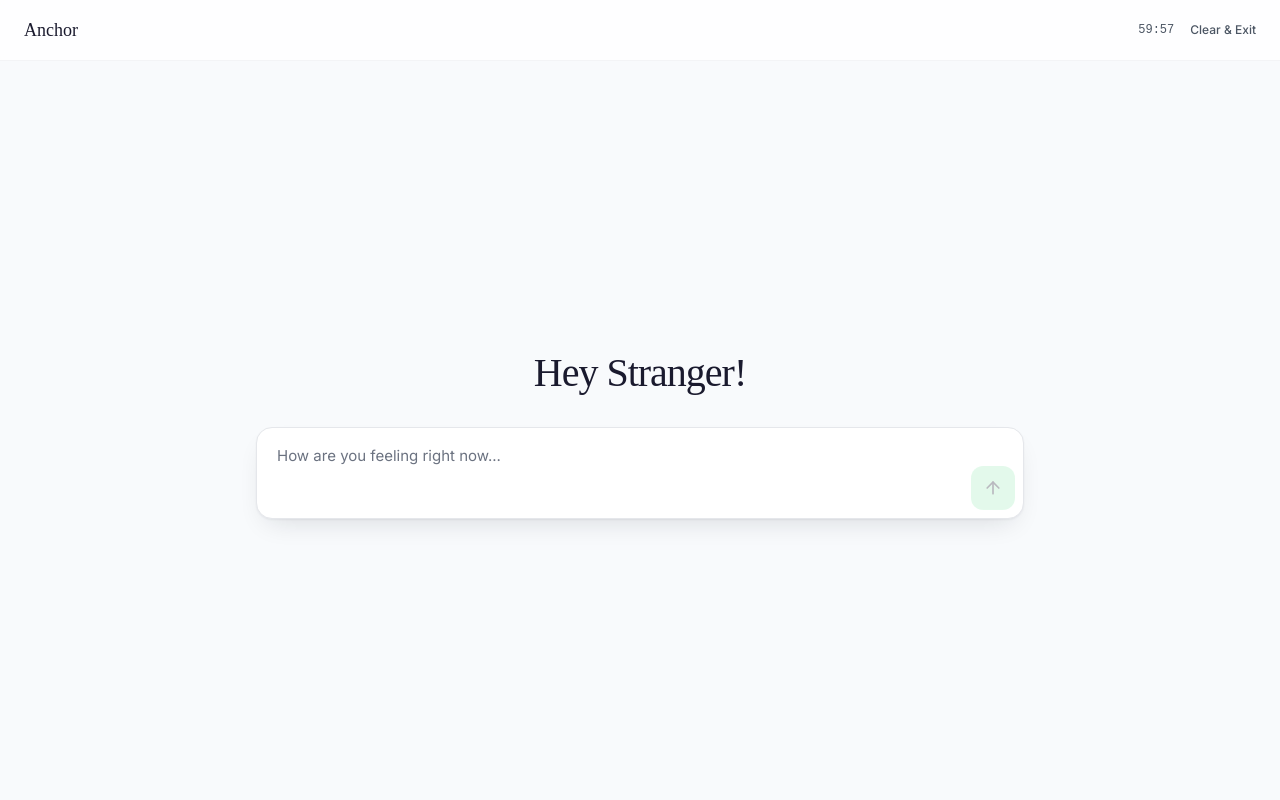
it: Chat – Chat Transition › changes placeholder to "Reply..." after assistant responds
The image size is (1280, 800).
In the text box with placeholder "How are you feeling right now...": (614, 472) [265,436,963,510], type "Need help"
Then press Enter
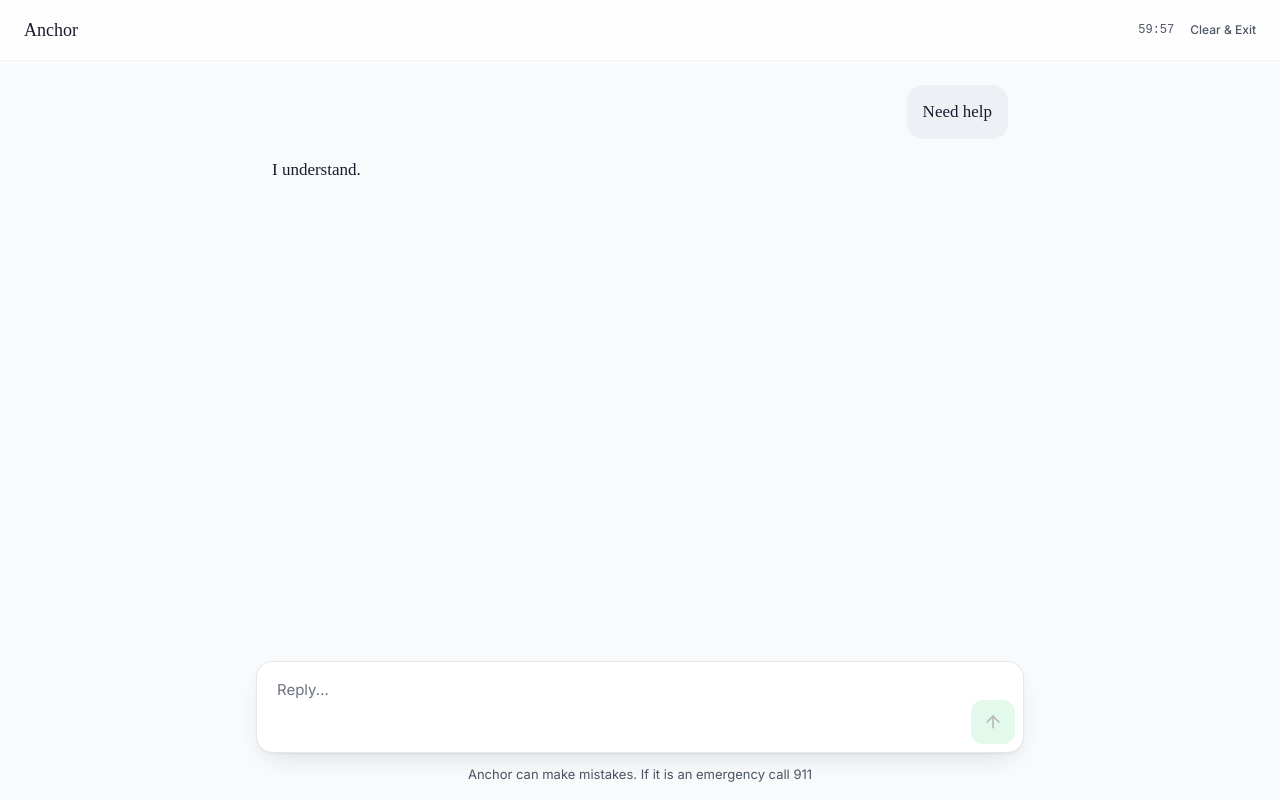
Check: the text box with placeholder "Reply..." is shown, box [265,670,963,744]
